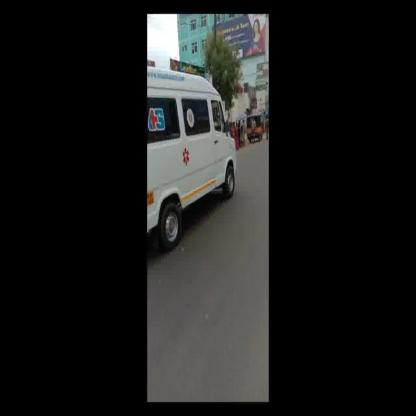priority: (148, 51, 236, 262)
